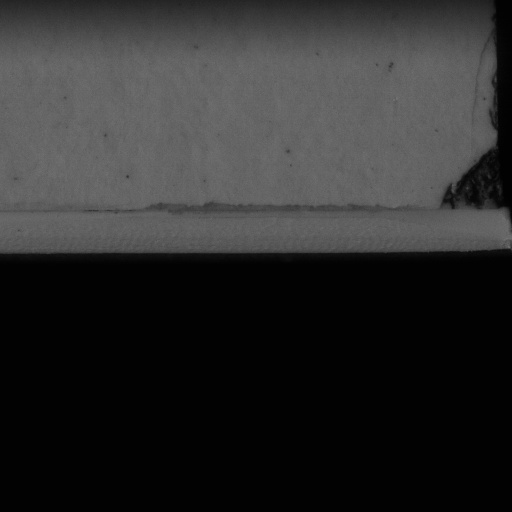bengque: (430, 149, 511, 215)
